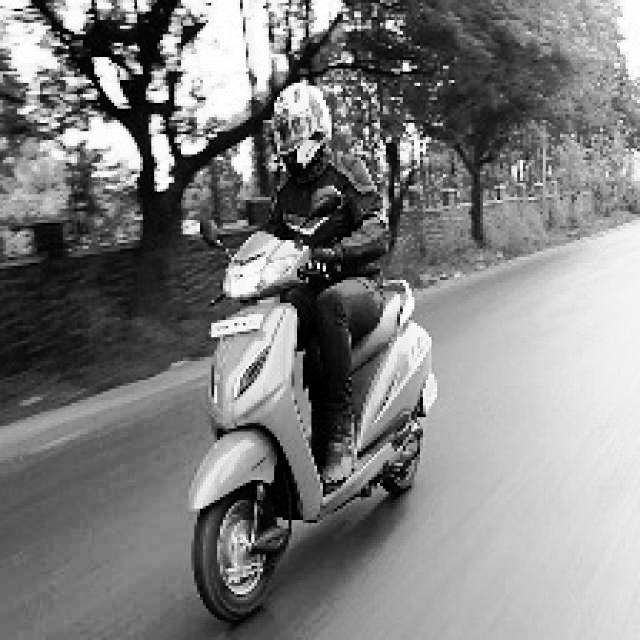Bike: (172, 207, 454, 639)
